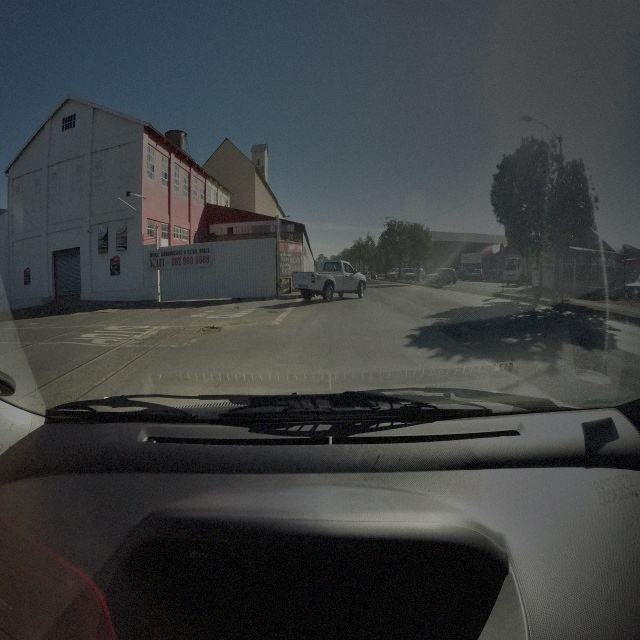pothole: (193, 323, 222, 337), (265, 308, 278, 315)
